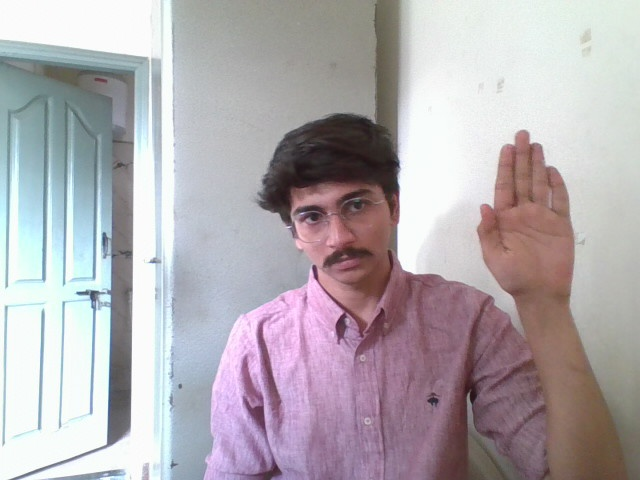hello: (467, 111, 583, 310)
